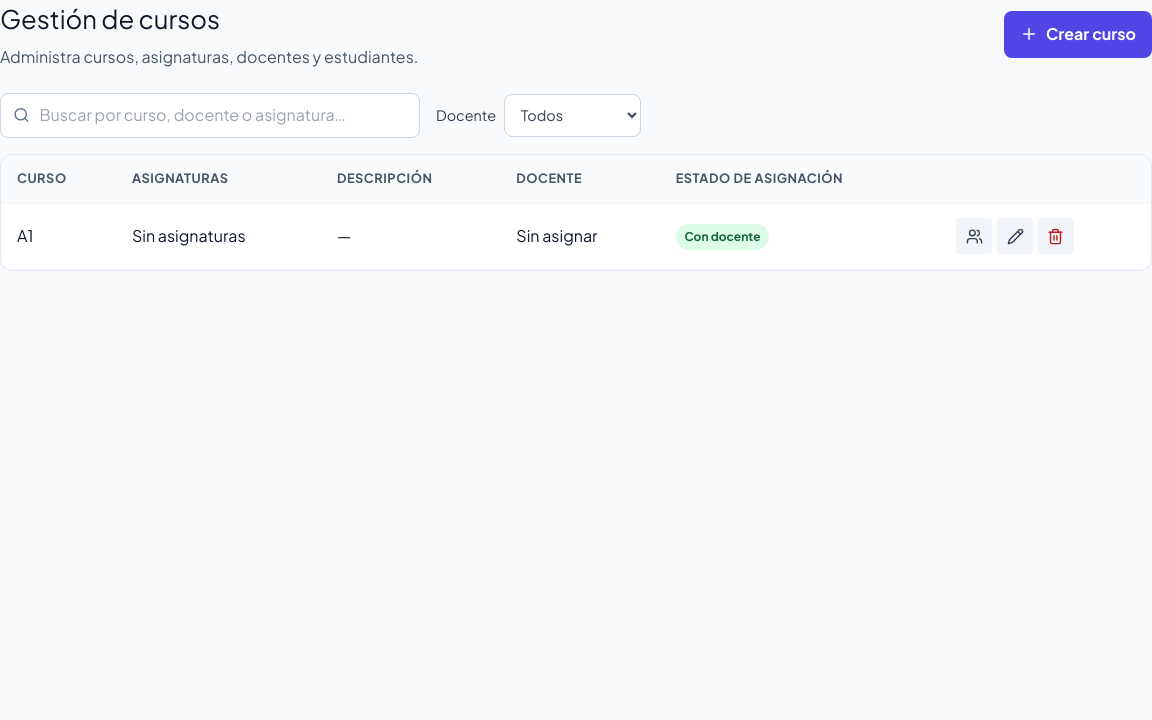
it: CourseManagement student enrollment search › filters available students by name, username, or email and ignores accents
Click the button named "Gestionar estudiantes de A1" at (974,236), box [956, 218, 992, 254]
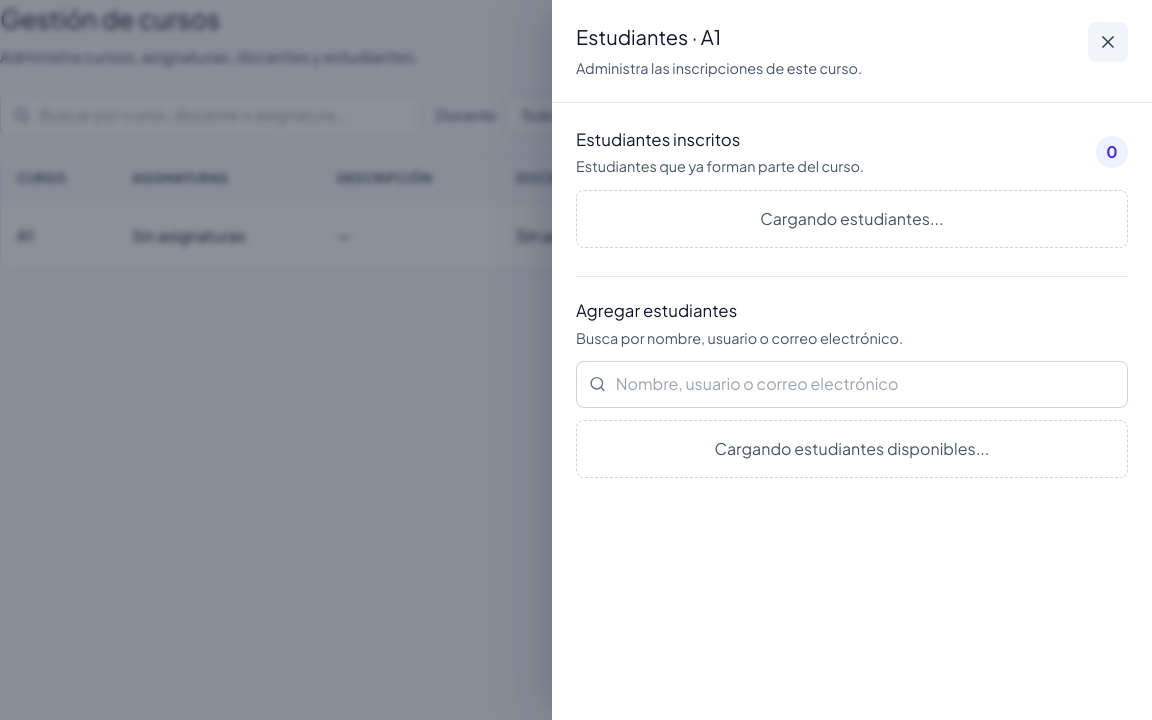
Type "angela" into the search field named "Buscar estudiantes disponibles" at (865,384), box [616, 372, 1115, 396]
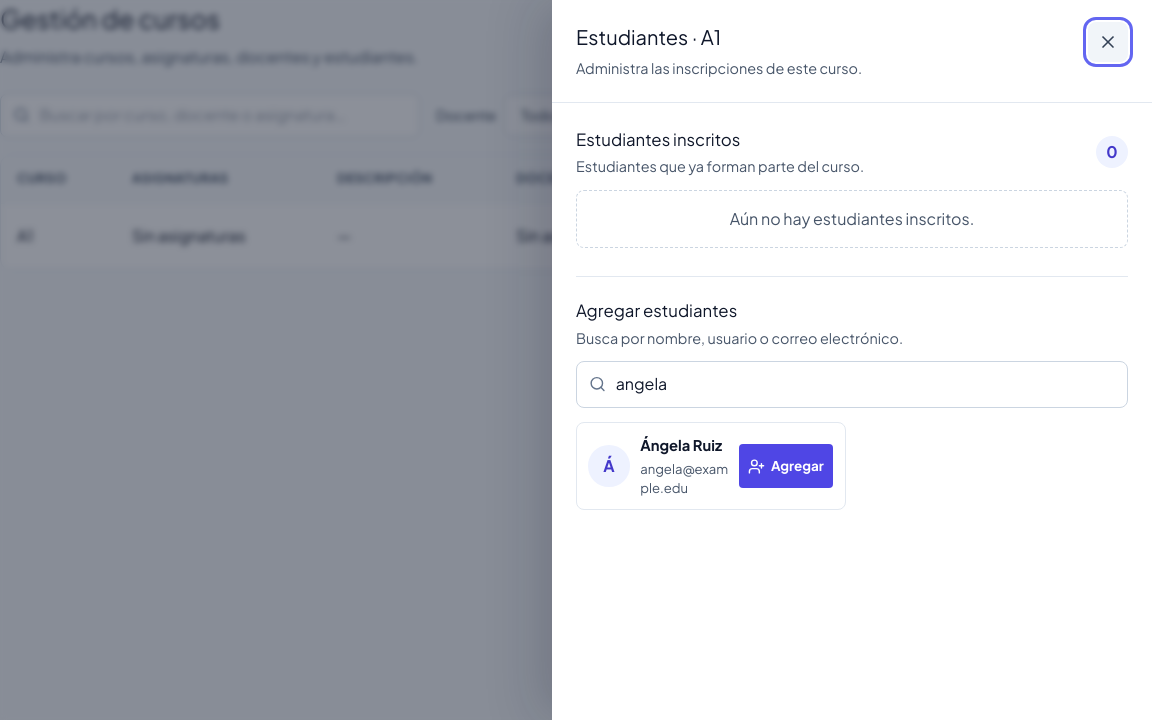
Expected: the text "Bruno Díaz" is not shown
Expected: the text "Ángela Ruiz" is shown, [640, 434, 728, 456]
Replace the text in the search field named "Buscar estudiantes disponibles" with "bruno@example.edu" at (865,384), box [616, 372, 1115, 396]
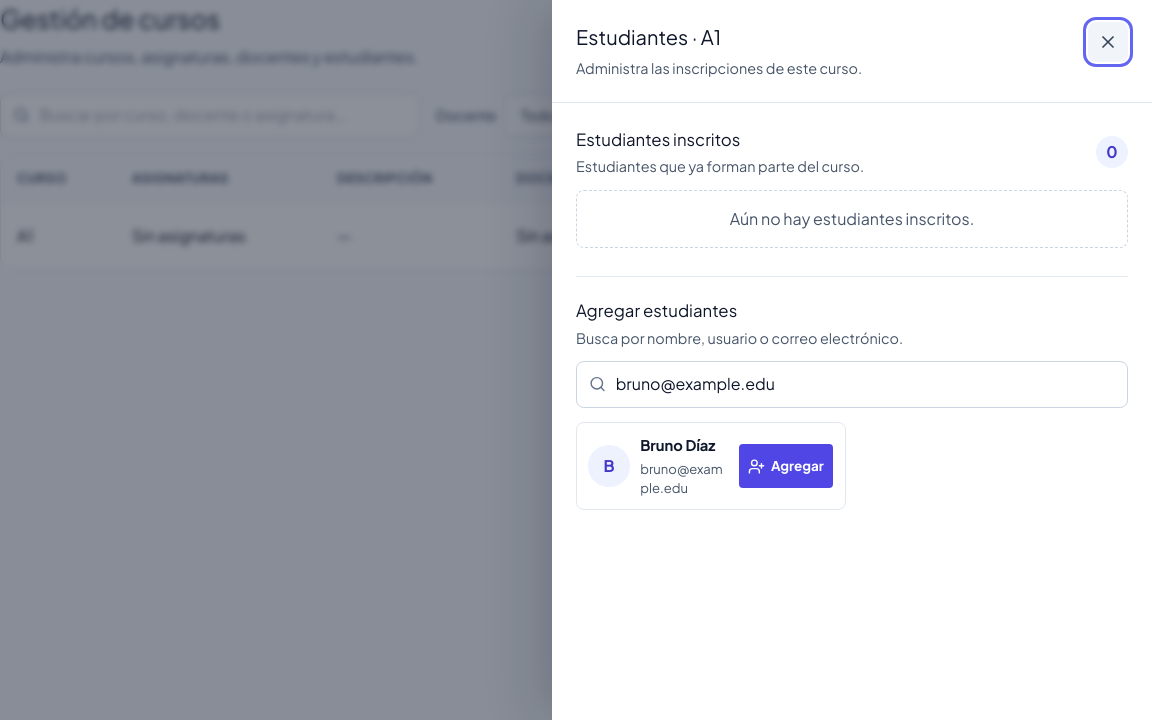
Expected: the text "Bruno Díaz" is shown, [640, 434, 728, 456]
Expected: the text "Ángela Ruiz" is gone
